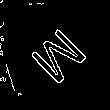M_SE: (22, 19, 90, 88)
